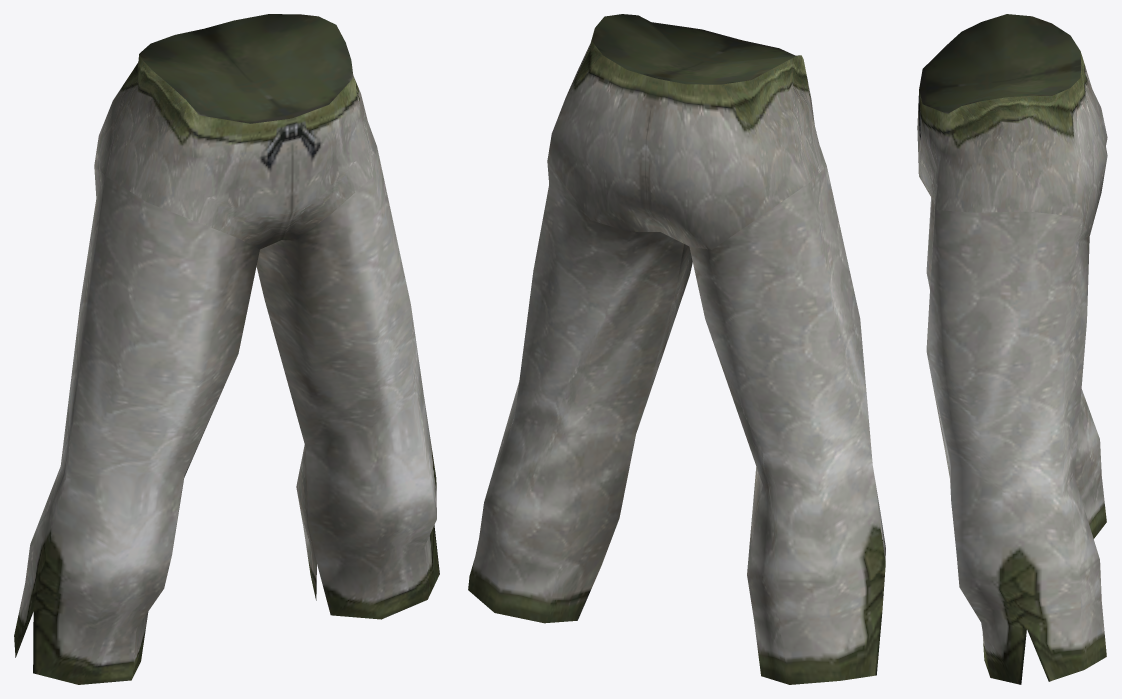
File: clothes_01_la.glb
3 views of the same model, side by side, from view 1: azimuth 30°, elevation 25°; view 2: azimuth 150°, elevation 25°; view 3: azimuth 270°, elevation 25° (orthographic). The views are drawn at different scales.
Parts seen in each view (by area): view 1: clothes_01_la; view 2: clothes_01_la; view 3: clothes_01_la.
Part boxes in pixels (left/top/right/bottom): clothes_01_la: left=14, top=14, right=439, bottom=684; clothes_01_la: left=468, top=14, right=885, bottom=684; clothes_01_la: left=917, top=14, right=1107, bottom=684.
Size of the model in its own units: 0.5997 by 0.8305 by 0.2594.
1 material, 1 textured.
